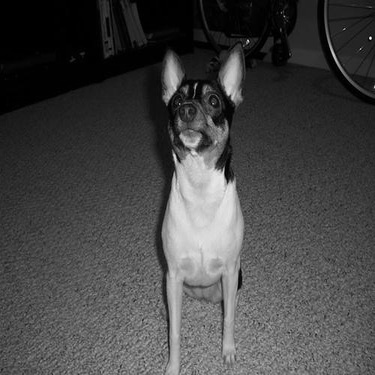dog: (126, 34, 262, 370)
